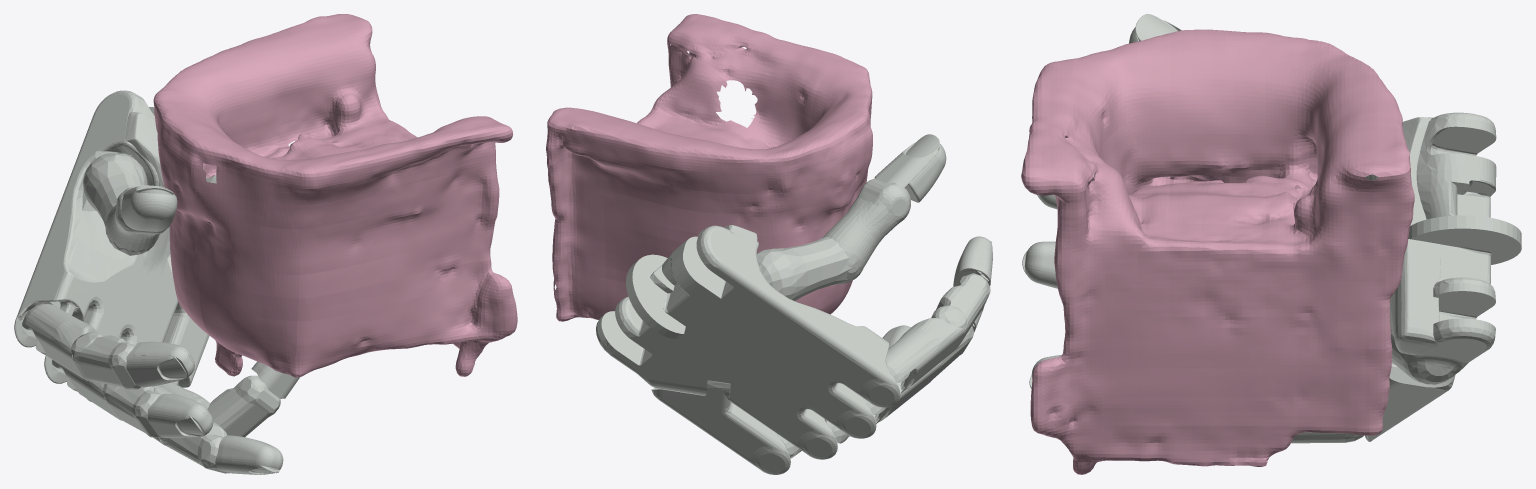
3 renders of one model, left to right at view 1: azimuth 30°, elevation 25°; view 2: azimuth 150°, elevation 25°; view 3: azimuth 270°, elevation 25°, orthographic. The views are drawn at different scales.
Visible parts, largest first — view 1: world, hand; view 2: hand, world; view 3: world, hand.
Part boxes in pixels (x1,y1,x2,y2): world: (153, 14, 517, 377); hand: (14, 90, 299, 474); hand: (596, 134, 992, 474); world: (546, 14, 872, 321); world: (1021, 29, 1414, 474); hand: (1022, 14, 1521, 443).
Bounding box in the file's own units: 0.1734 × 0.1479 × 0.1656.
